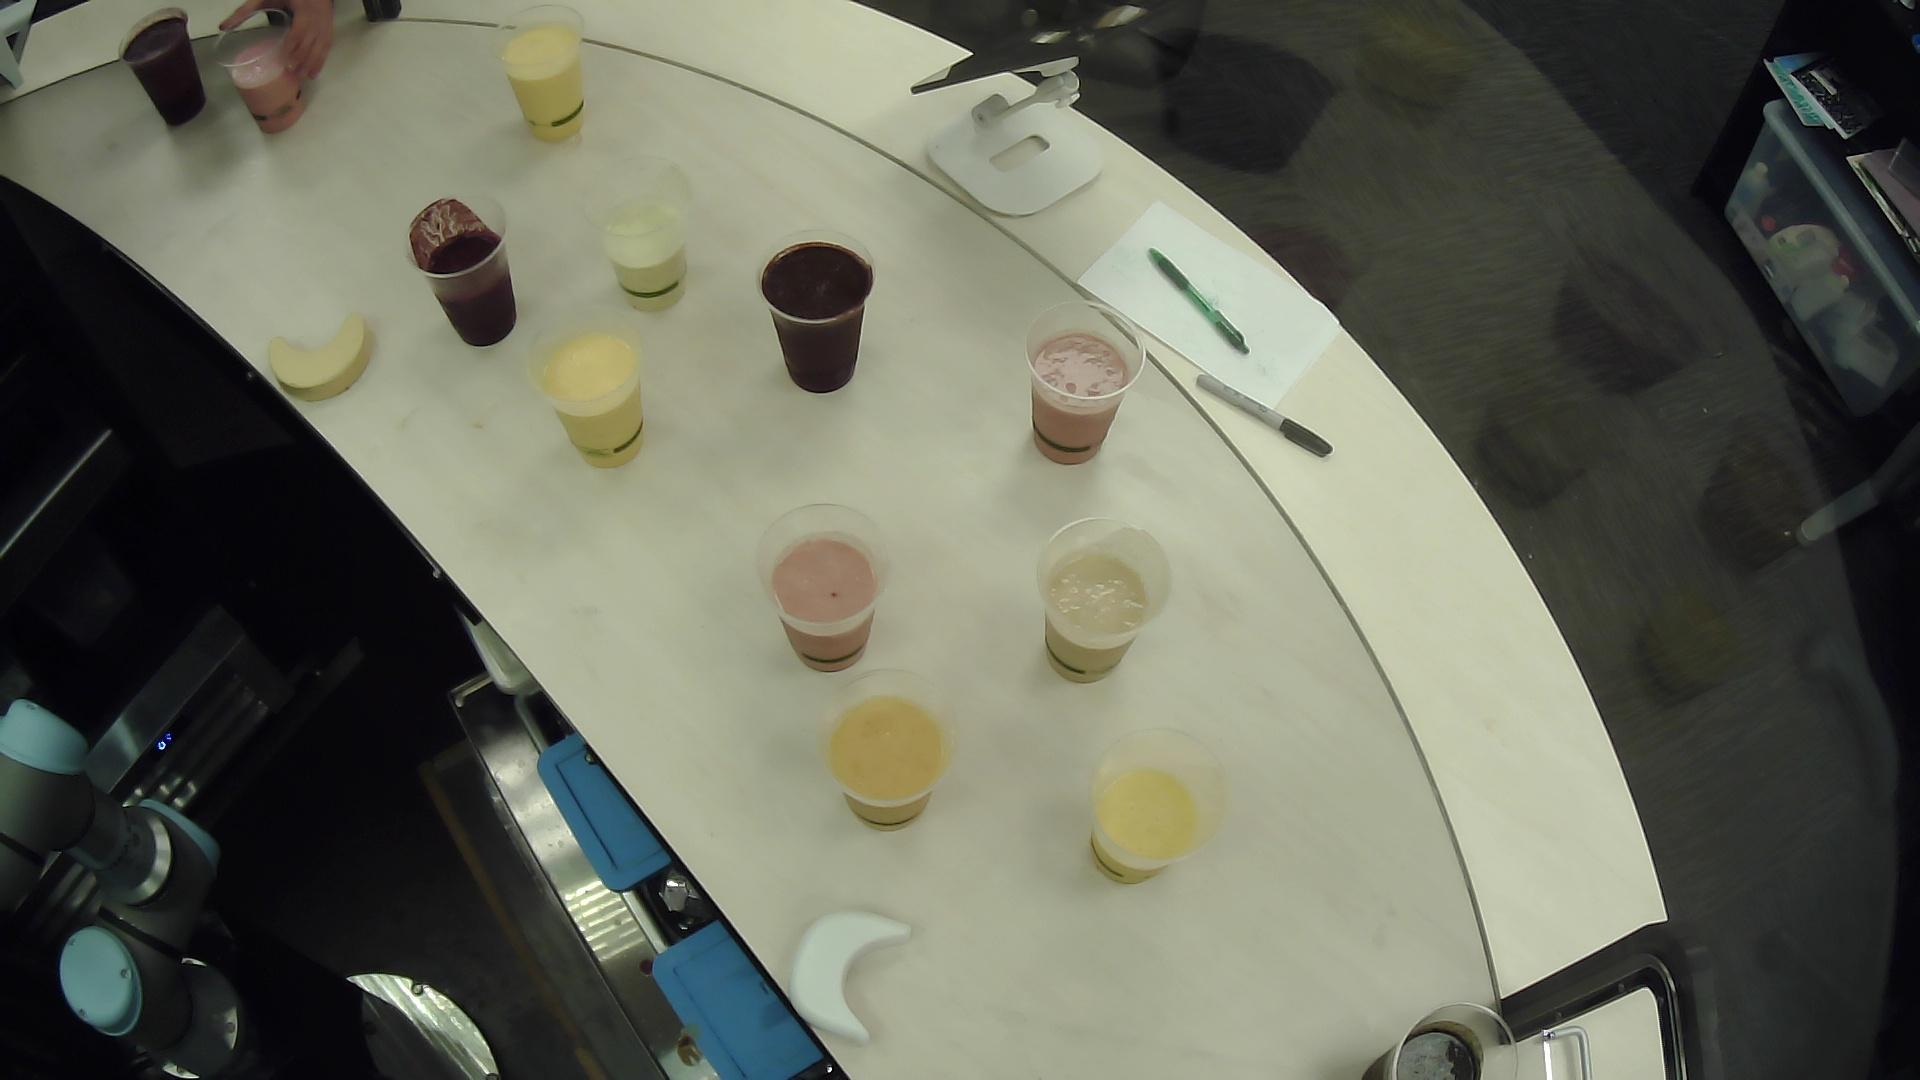Deliver: (767, 905, 931, 1047), (245, 299, 381, 419)
Full_cup: (721, 495, 910, 682), (1010, 512, 1193, 704), (1062, 705, 1238, 905), (1004, 281, 1166, 476), (814, 646, 957, 849), (748, 223, 890, 415), (1335, 961, 1565, 1080), (512, 316, 680, 475), (392, 185, 545, 356), (571, 154, 712, 324), (481, 1, 621, 160), (95, 1, 229, 135), (198, 1, 320, 138)
